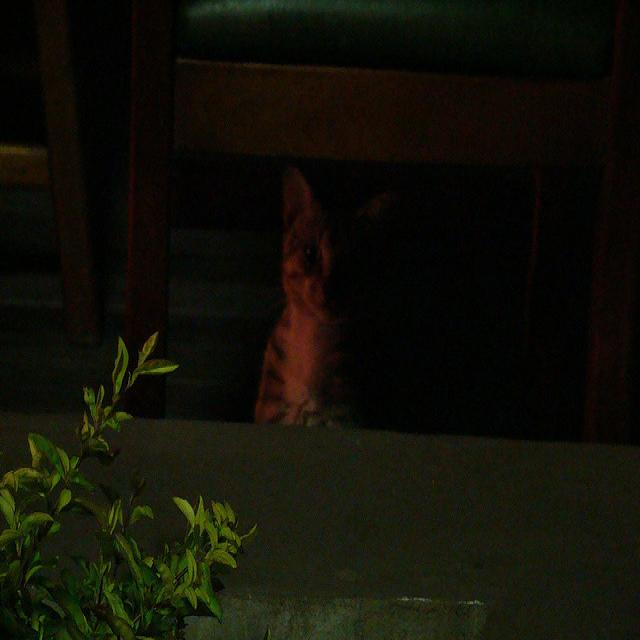Cat: (250, 139, 393, 488)
chair: (133, 2, 640, 508)
